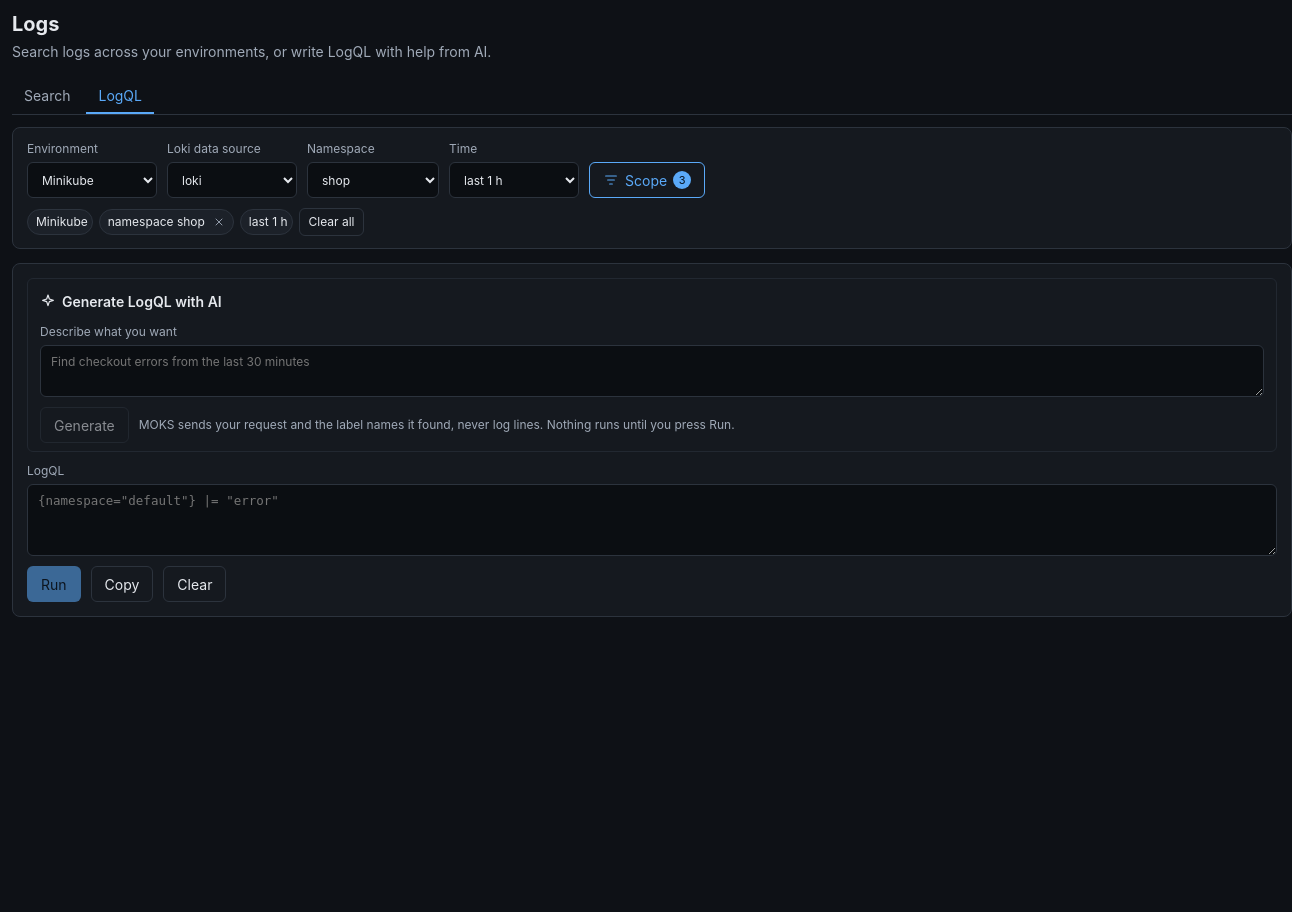
it: Generate LogQL with AI › shows why a draft was discarded instead of offering it
Type "find checkout timeouts" into the text box labelled "Describe what you want" at (652, 371), box [40, 345, 1264, 397]
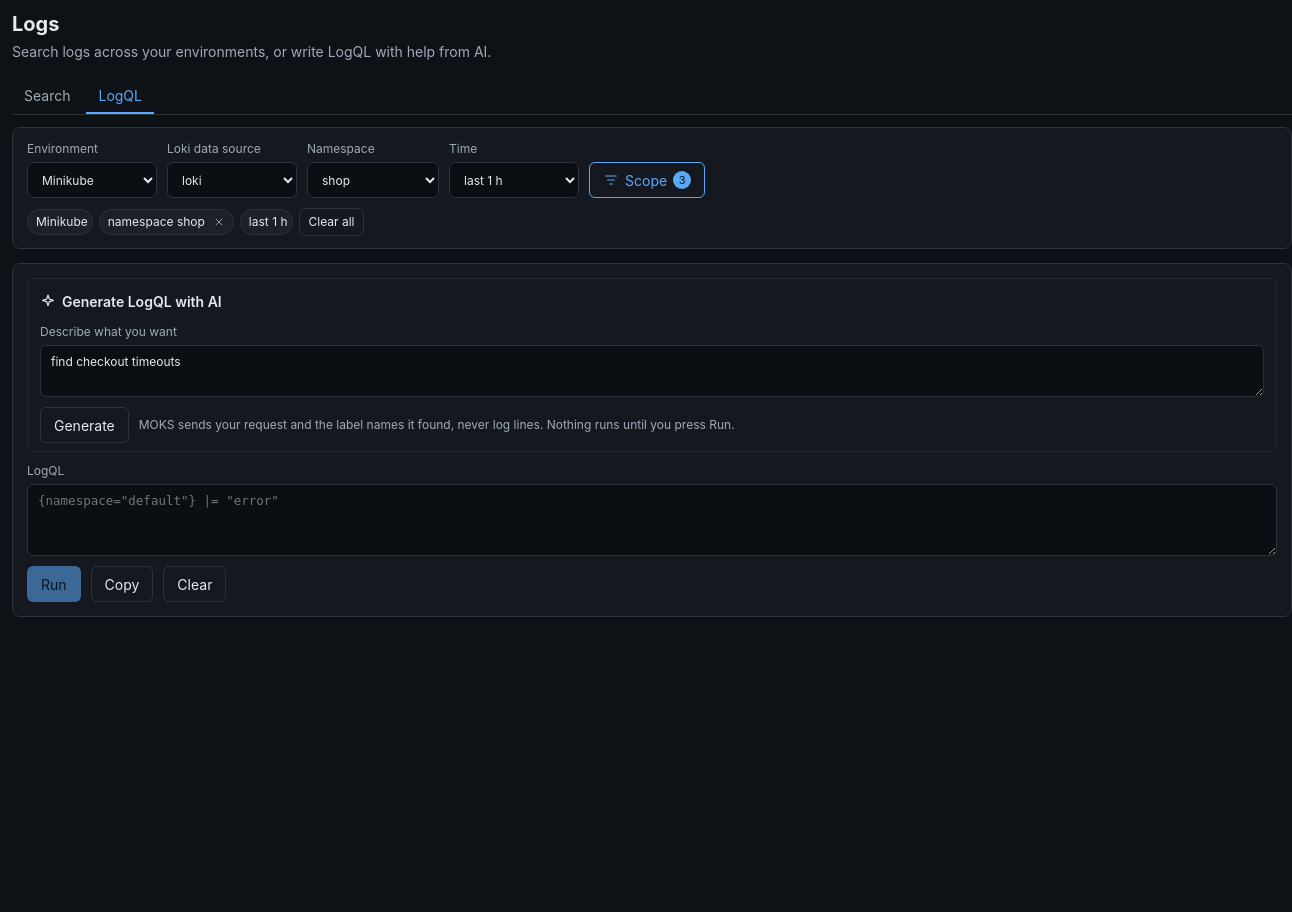
Click the button "Generate" at (84, 425), box [40, 407, 129, 443]
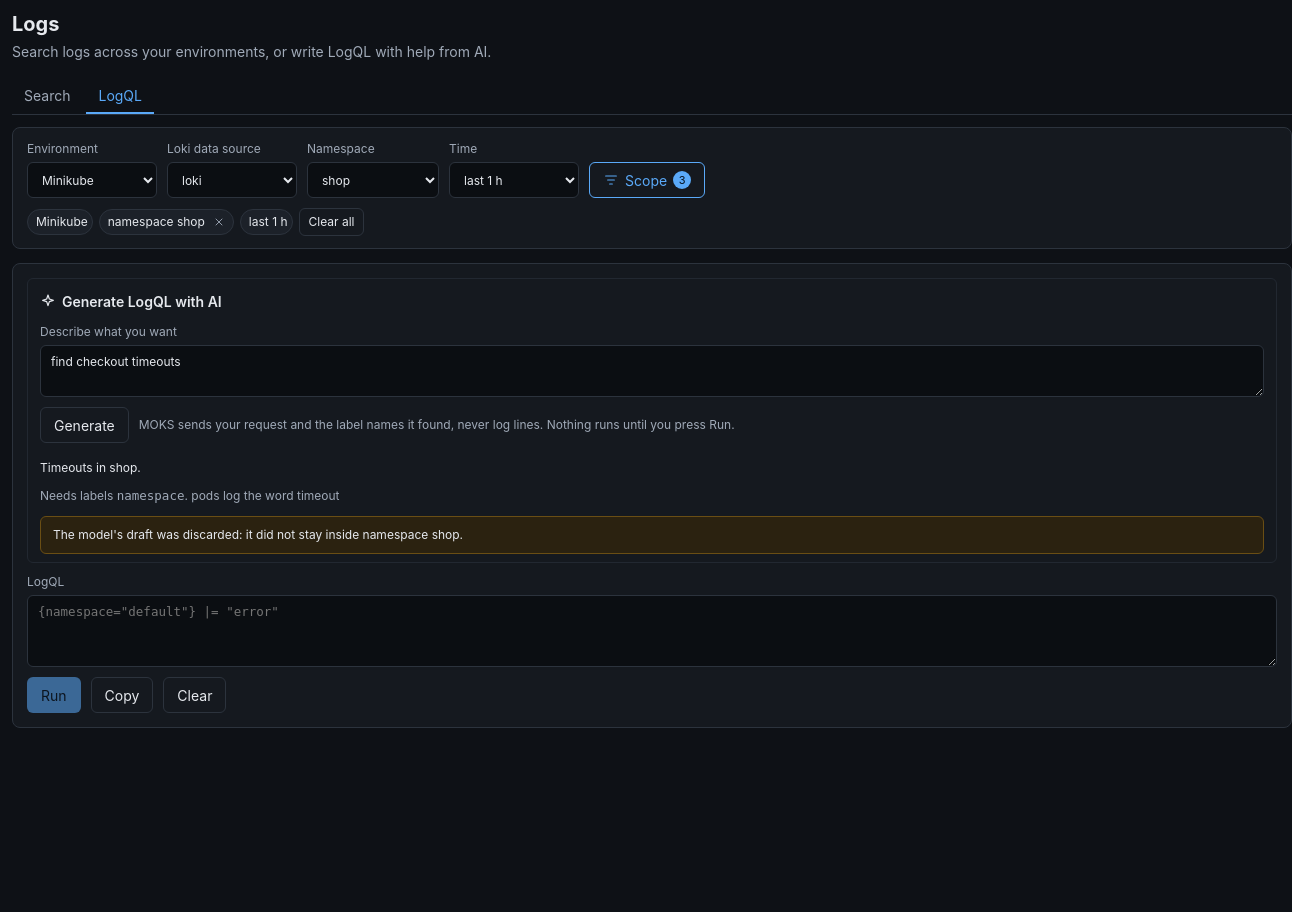
Expected: the text box labelled "LogQL" is empty, [27, 595, 1277, 667]
Expected: the text "did not stay inside" is shown, [53, 527, 463, 542]
